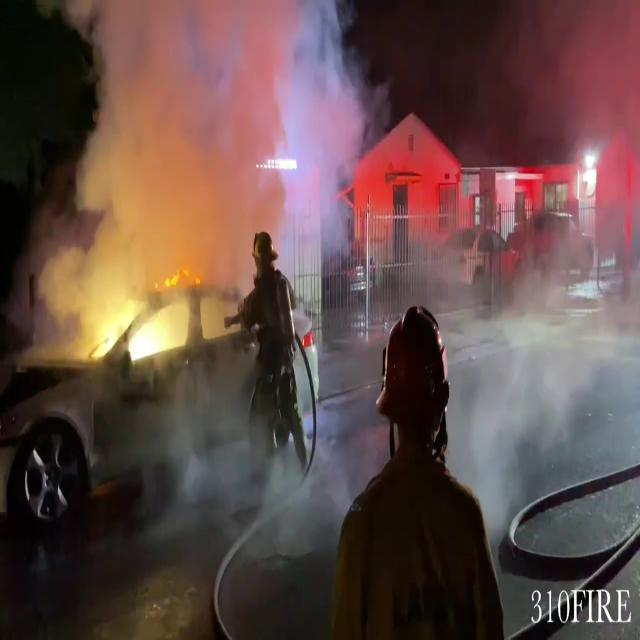Fire: (84, 278, 194, 372)
Smoke: (442, 10, 640, 505), (35, 1, 371, 281)
